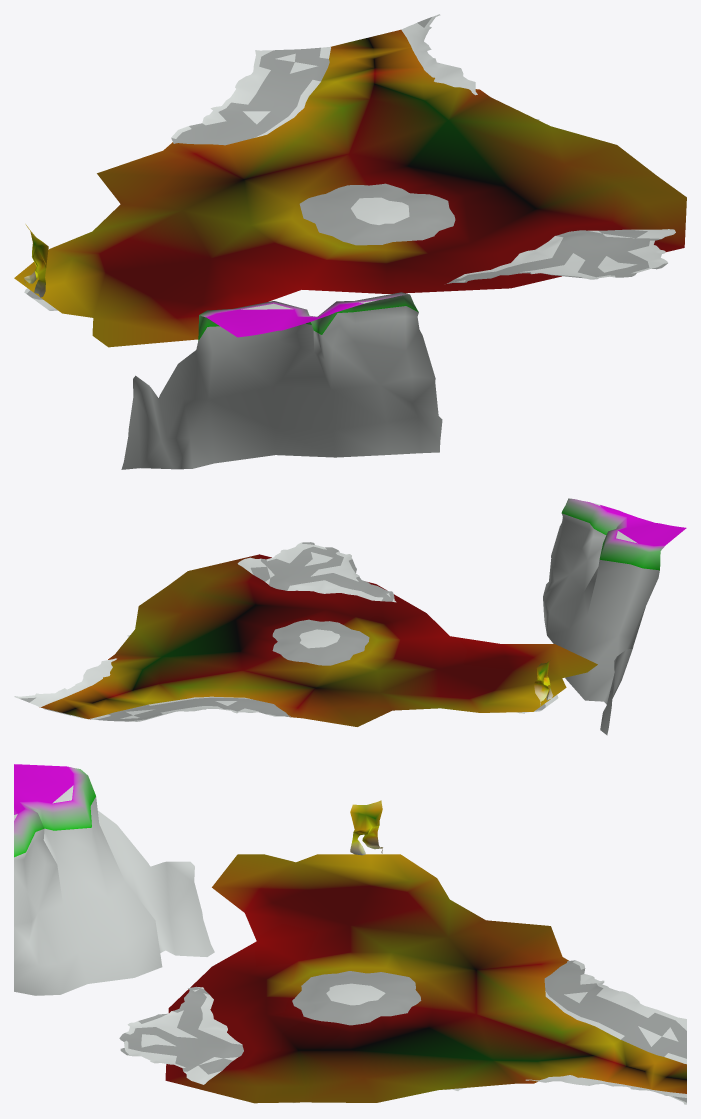
The picture shows the model from 3 angles, top to bottom: view 1: azimuth 30°, elevation 25°; view 2: azimuth 150°, elevation 25°; view 3: azimuth 270°, elevation 25°; orthographic projection. The views are drawn at different scales.
Parts seen in each view (by area): view 1: G:\FFXIV-MapTools\exports\f1f1\bg\ffxiv\fst_f1\fld\f1f1\bgpl (×11); view 2: G:\FFXIV-MapTools\exports\f1f1\bg\ffxiv\fst_f1\fld\f1f1\bgpl (×11); view 3: G:\FFXIV-MapTools\exports\f1f1\bg\ffxiv\fst_f1\fld\f1f1\bgpl (×11).
Part boxes in pixels (x1=…): G:\FFXIV-MapTools\exports\f1f1\bg\ffxiv\fst_f1\fld\f1f1\bgpl (×11): x1=14, y1=14, x2=686, y2=469; G:\FFXIV-MapTools\exports\f1f1\bg\ffxiv\fst_f1\fld\f1f1\bgpl (×11): x1=14, y1=498, x2=686, y2=735; G:\FFXIV-MapTools\exports\f1f1\bg\ffxiv\fst_f1\fld\f1f1\bgpl (×11): x1=14, y1=764, x2=686, y2=1104.
Size of the model in its own units: 112 by 40 by 128.
